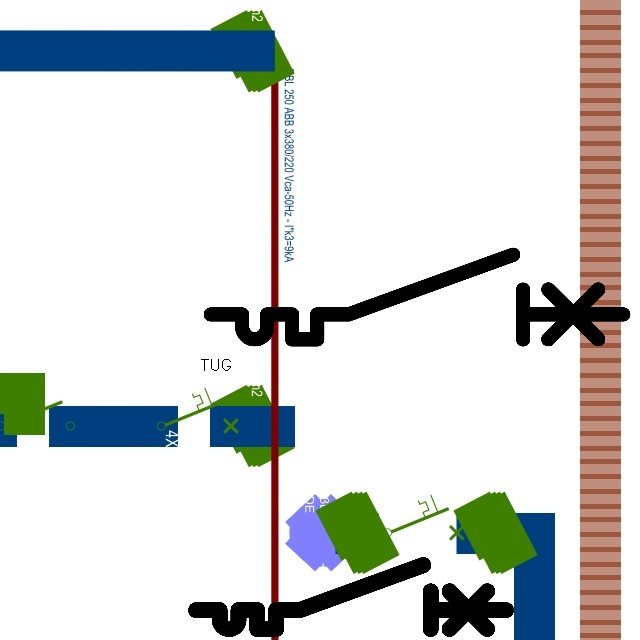interruptor_termomagnetico: (200, 244, 633, 350), (188, 557, 514, 637)
